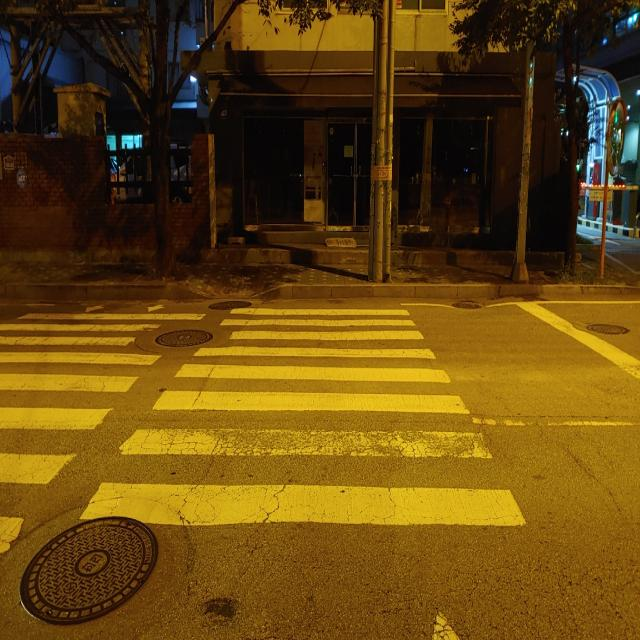횡단보도: (0, 304, 527, 639)
